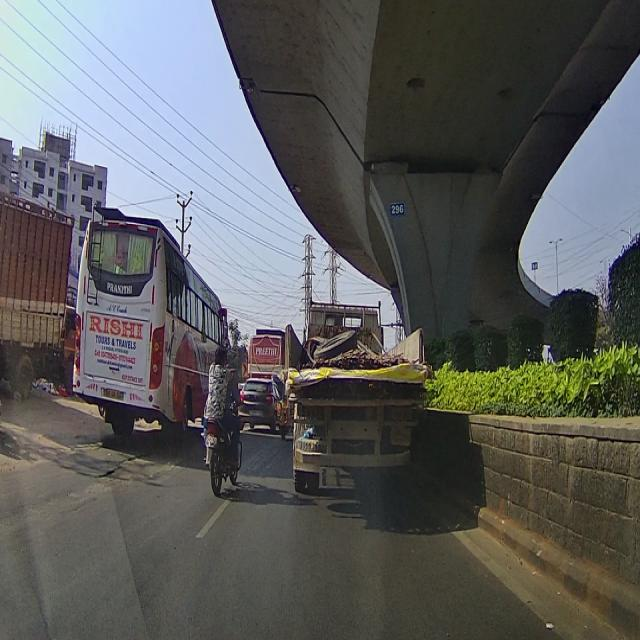right-hand-curve: (241, 362, 249, 378)
